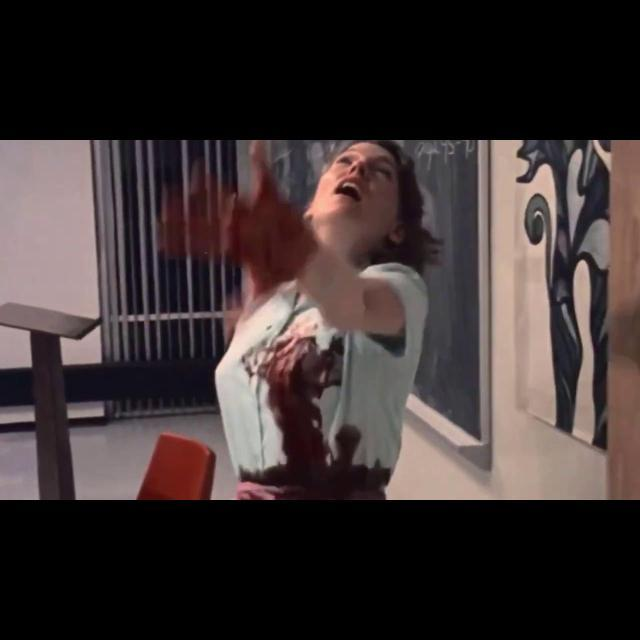blood: (235, 312, 392, 500), (166, 140, 316, 296)
